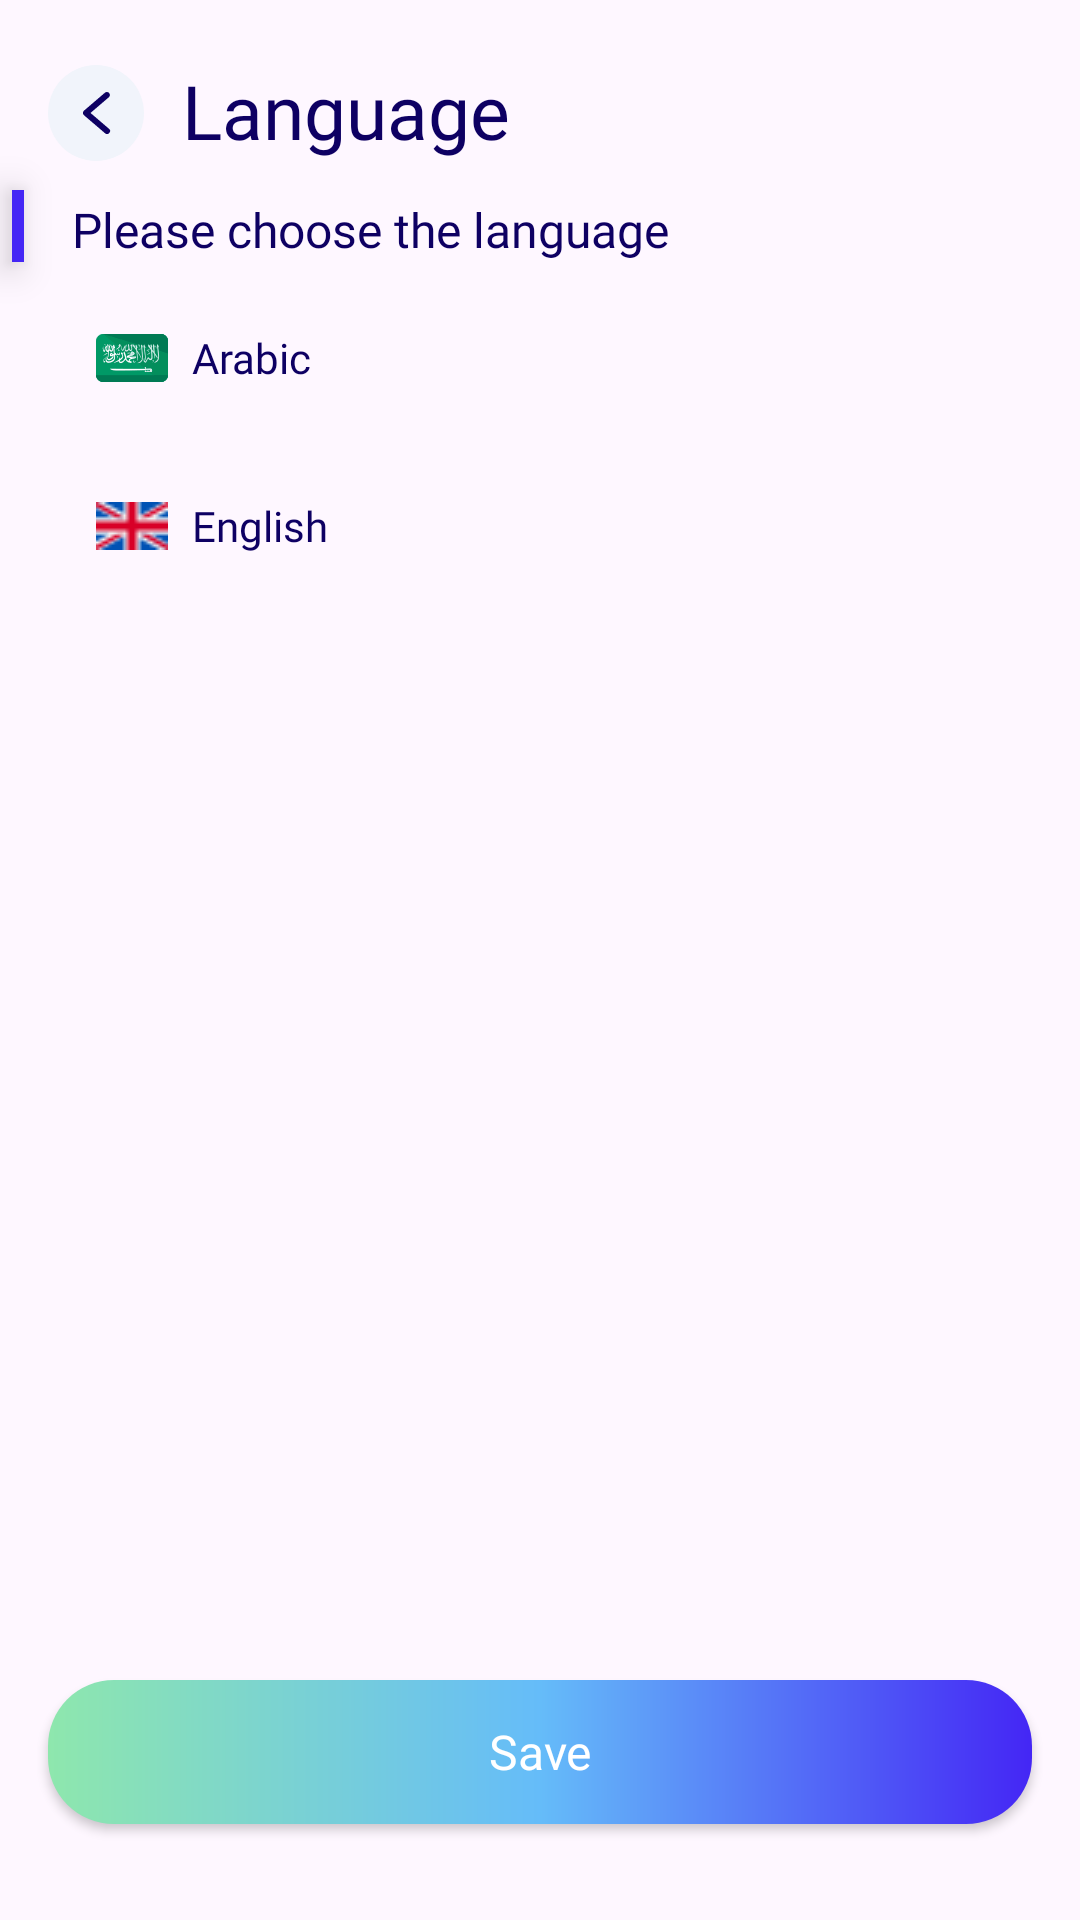

Screen size 1080x1920. Icon name, then its center in pixels as (x,y):
Back Arrow: (96,113)
